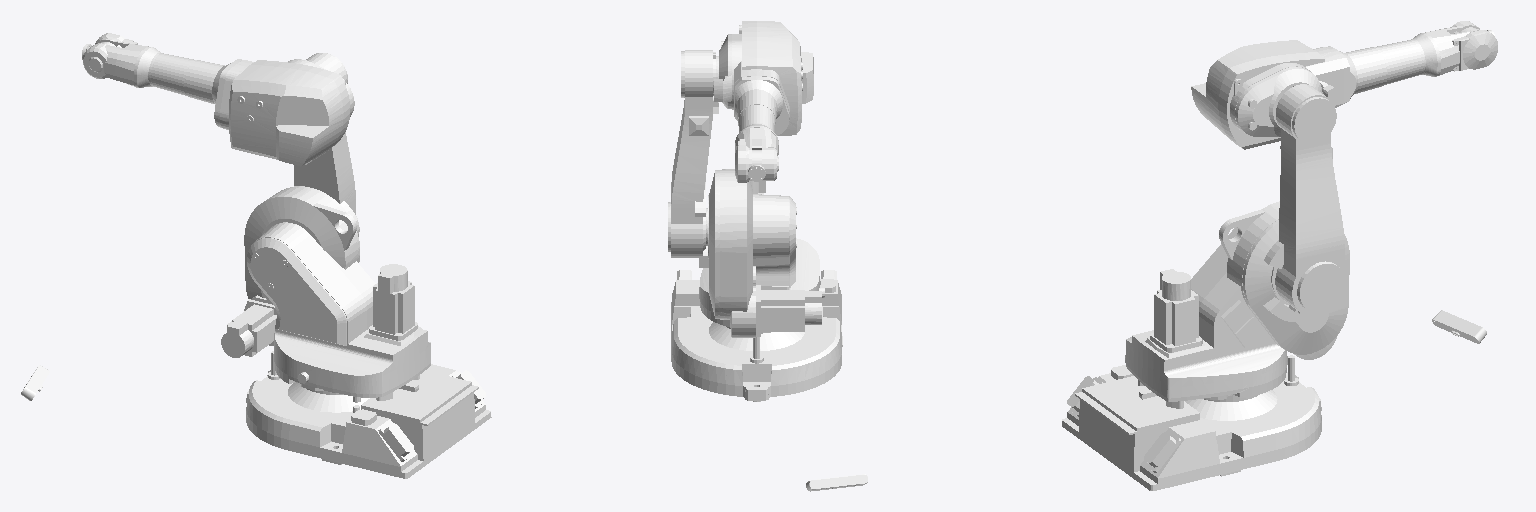
URDF robot description (converted_robot):
<?xml version="1.0" ?>
<robot name="converted_robot">
   <link name="world">
      <inertial>
         <origin xyz="0.0 0.0 0.0" rpy="0.0 0.0 0.0"/>
         <mass value="0.0"/>
         <inertia ixx="0.0" iyy="0.0" izz="0.0" ixy="0" ixz="0" iyz="0"/>
      </inertial>
   </link>
   <link name="obstacle">
      <inertial>
         <origin xyz="0.0 0.0 0.4041" rpy="0.0 0.0 0.0"/>
         <mass value="0.0"/>
         <inertia ixx="0.0" iyy="0.0" izz="0.0" ixy="0" ixz="0" iyz="0"/>
      </inertial>
   </link>
   <link name="world2obstacle_fixed_jointbody">
      <inertial>
         <origin xyz="0.0 0.0 0.0" rpy="0.0 0.0 0.0"/>
         <mass value="0.001"/>
         <inertia ixx="1e-09" iyy="1e-09" izz="1e-09" ixy="0" ixz="0" iyz="0"/>
      </inertial>
   </link>
   <joint type="fixed" name="world2obstacle_fixed">
      <parent link="world"/>
      <child link="world2obstacle_fixed_jointbody"/>
      <origin xyz="0.0 0.0 0.4041" rpy="0.0 0.0 0.0"/>
   </joint>
   <joint type="fixed" name="world2obstacle_fixed_offset">
      <parent link="world2obstacle_fixed_jointbody"/>
      <child link="obstacle"/>
      <origin xyz="-0.0 -0.0 -0.0" rpy="0.0 0.0 0.0"/>
   </joint>
   <link name="pedestal">
      <inertial>
         <origin xyz="-0.00043730227895794624 0.0003461553523841242 -0.11444806187186295" rpy="1.5291440469426658 -1.5702258157370024 0.518936895514554"/>
         <mass value="765.3285799872285"/>
         <inertia ixx="163.26887932246294" iyy="93.62391648179316" izz="93.1454633912142" ixy="0" ixz="0" iyz="0"/>
      </inertial>
      <visual name="pedestal">
         <origin xyz="-5.092508355591413e-09 -9.222826625304366e-05 -0.11580342809927653" rpy="5.273703893393655e-05 -1.57 1.570796326794889"/>
         <geometry>
            <mesh filename="package://mapf/irb1600_aggregated/converted_pedestal.stl"/>
         </geometry>
         <material name="white"/>
      </visual>
   </link>
   <link name="obstacle2pedestal_fixed_jointbody">
      <inertial>
         <origin xyz="0.0 0.0 0.0" rpy="0.0 0.0 0.0"/>
         <mass value="0.001"/>
         <inertia ixx="1e-09" iyy="1e-09" izz="1e-09" ixy="0" ixz="0" iyz="0"/>
      </inertial>
   </link>
   <joint type="fixed" name="obstacle2pedestal_fixed">
      <parent link="obstacle"/>
      <child link="obstacle2pedestal_fixed_jointbody"/>
      <origin xyz="0.0 0.0 0.0" rpy="0.0 0.0 0.0"/>
   </joint>
   <joint type="fixed" name="obstacle2pedestal_fixed_offset">
      <parent link="obstacle2pedestal_fixed_jointbody"/>
      <child link="pedestal"/>
      <origin xyz="-0.0 -0.0 -0.0" rpy="0.0 0.0 0.0"/>
   </joint>
   <link name="cam1_mount">
      <inertial>
         <origin xyz="-2.1978752828365408e-08 0.3035055631842356 0.030071931519001862" rpy="0.0 -1.5704348969469144 1.5707963267948966"/>
         <mass value="81.34561770455797"/>
         <inertia ixx="6.10766057356678" iyy="6.1072505691519305" izz="1.21596528823384" ixy="0" ixz="0" iyz="0"/>
      </inertial>
      <visual name="camera">
         <origin xyz="-6.081106802919752e-06 0.00016160951961328342 0.05516862042406933" rpy="-1.5711455092126796 -1.0361043391953673 -1.5706153060942076"/>
         <geometry>
            <mesh filename="package://mapf/irb1600_aggregated/converted_camera.stl"/>
         </geometry>
         <material name="white"/>
      </visual>
   </link>
   <link name="pedestal2cam1_mount_fixed_jointbody">
      <inertial>
         <origin xyz="0.0 0.0 0.0" rpy="0.0 0.0 0.0"/>
         <mass value="0.001"/>
         <inertia ixx="1e-09" iyy="1e-09" izz="1e-09" ixy="0" ixz="0" iyz="0"/>
      </inertial>
   </link>
   <joint type="fixed" name="pedestal2cam1_mount_fixed">
      <parent link="pedestal"/>
      <child link="pedestal2cam1_mount_fixed_jointbody"/>
      <origin xyz="-0.6223 0.6223 0.04" rpy="0.0 0.0 0.7853979999999999"/>
   </joint>
   <joint type="fixed" name="pedestal2cam1_mount_fixed_offset">
      <parent link="pedestal2cam1_mount_fixed_jointbody"/>
      <child link="cam1_mount"/>
      <origin xyz="-0.0 -0.0 -0.0" rpy="0.0 0.0 0.0"/>
   </joint>
   <link name="lidar_array">
      <inertial>
         <origin xyz="0.0 0.3471333333333333 0.00508" rpy="1.5862274945631394 0.0 0.0"/>
         <mass value="0.49161192"/>
         <inertia ixx="0.018046526495606" iyy="0.017957732491635382" izz="0.0001416553950218212" ixy="0" ixz="0" iyz="0"/>
      </inertial>
   </link>
   <link name="cam1_mount2lidar_array_fixed_jointbody">
      <inertial>
         <origin xyz="0.0 0.0 0.0" rpy="0.0 0.0 0.0"/>
         <mass value="0.001"/>
         <inertia ixx="1e-09" iyy="1e-09" izz="1e-09" ixy="0" ixz="0" iyz="0"/>
      </inertial>
   </link>
   <joint type="fixed" name="cam1_mount2lidar_array_fixed">
      <parent link="cam1_mount"/>
      <child link="cam1_mount2lidar_array_fixed_jointbody"/>
      <origin xyz="0.0 0.0 -0.04" rpy="0.0 0.0 0.0"/>
   </joint>
   <joint type="fixed" name="cam1_mount2lidar_array_fixed_offset">
      <parent link="cam1_mount2lidar_array_fixed_jointbody"/>
      <child link="lidar_array"/>
      <origin xyz="-0.0 -0.0 -0.0" rpy="0.0 0.0 0.0"/>
   </joint>
   <link name="lidar_tip_1">
      <inertial>
         <origin xyz="2.8498786209322004e-06 -0.009624170314843522 0.04496477472873744" rpy="1.1678002508174847 -0.00017406642393558158 -0.00018585284510541644"/>
         <mass value="1.0066451621893733"/>
         <inertia ixx="0.000936962965946424" iyy="0.0007914151369487161" izz="0.0005854883096544581" ixy="0" ixz="0" iyz="0"/>
      </inertial>
      <visual name="lidar_w_bracket">
         <origin xyz="2.8498786209322004e-06 -0.009624170314843522 0.04496477472873744" rpy="1.1678002508174852 -0.00017406642393558158 -0.00018585284510552746"/>
         <geometry>
            <mesh filename="package://mapf/irb1600_aggregated/converted_lidar_w_bracket.stl"/>
         </geometry>
         <material name="white"/>
      </visual>
   </link>
   <link name="lidar_array2lidar_tip_1_fixed_jointbody">
      <inertial>
         <origin xyz="0.0 0.0 0.0" rpy="0.0 0.0 0.0"/>
         <mass value="0.001"/>
         <inertia ixx="1e-09" iyy="1e-09" izz="1e-09" ixy="0" ixz="0" iyz="0"/>
      </inertial>
   </link>
   <joint type="fixed" name="lidar_array2lidar_tip_1_fixed">
      <parent link="lidar_array"/>
      <child link="lidar_array2lidar_tip_1_fixed_jointbody"/>
      <origin xyz="0.0 0.3048 0.0635" rpy="0.0 0.0 0.0"/>
   </joint>
   <joint type="fixed" name="lidar_array2lidar_tip_1_fixed_offset">
      <parent link="lidar_array2lidar_tip_1_fixed_jointbody"/>
      <child link="lidar_tip_1"/>
      <origin xyz="-0.0 -0.0 -0.0" rpy="0.0 0.0 0.0"/>
   </joint>
   <link name="lidar_tip_2">
      <inertial>
         <origin xyz="2.8498786209322004e-06 -0.009624170314843522 0.04496477472873744" rpy="1.1678002508174847 -0.00017406642393558158 -0.00018585284510541644"/>
         <mass value="1.0066451621893733"/>
         <inertia ixx="0.000936962965946424" iyy="0.0007914151369487161" izz="0.0005854883096544581" ixy="0" ixz="0" iyz="0"/>
      </inertial>
      <visual name="lidar_w_bracket">
         <origin xyz="2.8498786209322004e-06 -0.009624170314843522 0.04496477472873744" rpy="1.1678002508174852 -0.00017406642393558158 -0.00018585284510552746"/>
         <geometry>
            <mesh filename="package://mapf/irb1600_aggregated/converted_lidar_w_bracket.stl"/>
         </geometry>
         <material name="white"/>
      </visual>
   </link>
   <link name="lidar_array2lidar_tip_2_fixed_jointbody">
      <inertial>
         <origin xyz="0.0 0.0 0.0" rpy="0.0 0.0 0.0"/>
         <mass value="0.001"/>
         <inertia ixx="1e-09" iyy="1e-09" izz="1e-09" ixy="0" ixz="0" iyz="0"/>
      </inertial>
   </link>
   <joint type="fixed" name="lidar_array2lidar_tip_2_fixed">
      <parent link="lidar_array"/>
      <child link="lidar_array2lidar_tip_2_fixed_jointbody"/>
      <origin xyz="0.0 0.6096 0.0635" rpy="0.0 0.0 0.0"/>
   </joint>
   <joint type="fixed" name="lidar_array2lidar_tip_2_fixed_offset">
      <parent link="lidar_array2lidar_tip_2_fixed_jointbody"/>
      <child link="lidar_tip_2"/>
      <origin xyz="-0.0 -0.0 -0.0" rpy="0.0 0.0 0.0"/>
   </joint>
   <link name="base">
      <inertial>
         <origin xyz="-0.00041004619227797627 5.0215393118181535e-06 0.8955730364480041" rpy="0.0018676595006115182 -1.5569813036519353 3.1300420253338794"/>
         <mass value="8296.716295423723"/>
         <inertia ixx="5027.275636163852" iyy="4826.827767099473" izz="4826.047797731569" ixy="0" ixz="0" iyz="0"/>
      </inertial>
      <visual name="base_link">
         <origin xyz="-0.10398600701234399 0.001273441460803755 0.06465907013194644" rpy="-3.05674683826266 -1.514761990613406 -0.0924694853798016"/>
         <geometry>
            <mesh filename="package://mapf/irb1600_aggregated/converted_base_link.stl"/>
         </geometry>
         <material name="white"/>
      </visual>
   </link>
   <link name="obstacle2base_fixed_jointbody">
      <inertial>
         <origin xyz="0.0 0.0 0.0" rpy="0.0 0.0 0.0"/>
         <mass value="0.001"/>
         <inertia ixx="1e-09" iyy="1e-09" izz="1e-09" ixy="0" ixz="0" iyz="0"/>
      </inertial>
   </link>
   <joint type="fixed" name="obstacle2base_fixed">
      <parent link="obstacle"/>
      <child link="obstacle2base_fixed_jointbody"/>
      <origin xyz="0.0 0.0 0.07847612194" rpy="0.0 0.0 2.0944"/>
   </joint>
   <joint type="fixed" name="obstacle2base_fixed_offset">
      <parent link="obstacle2base_fixed_jointbody"/>
      <child link="base"/>
      <origin xyz="-0.0 -0.0 -0.0" rpy="0.0 0.0 0.0"/>
   </joint>
   <link name="link_1">
      <inertial>
         <origin xyz="0.0444007 -0.00834001 0.340163" rpy="0.9287374349478994 -0.25766778527335377 1.6028091534546456"/>
         <mass value="44.6131"/>
         <inertia ixx="1.4797" iyy="1.22366" izz="0.686463" ixy="0" ixz="0" iyz="0"/>
      </inertial>
      <visual name="link_1">
         <origin xyz="0.04440067695420431 -0.008340011276993008 0.3401628099689179" rpy="0.9287368631456476 -0.25766702559282706 1.6028103288522595"/>
         <geometry>
            <mesh filename="package://mapf/irb1600_aggregated/converted_link_1.stl"/>
         </geometry>
         <material name="white"/>
      </visual>
   </link>
   <link name="joint_1_jointbody">
      <inertial>
         <origin xyz="0.0 0.0 0.0" rpy="0.0 0.0 0.0"/>
         <mass value="0.001"/>
         <inertia ixx="1e-09" iyy="1e-09" izz="1e-09" ixy="0" ixz="0" iyz="0"/>
      </inertial>
   </link>
   <joint type="revolute" name="joint_1">
      <parent link="base"/>
      <child link="joint_1_jointbody"/>
      <origin xyz="0.0 0.0 0.0" rpy="0.0 0.0 0.0"/>
      <axis xyz="0.0 0.0 1.0"/>
      <limit lower="-3.14159" upper="3.14159" effort="100" velocity="100"/>
   </joint>
   <joint type="fixed" name="joint_1_offset">
      <parent link="joint_1_jointbody"/>
      <child link="link_1"/>
      <origin xyz="-0.0 -0.0 -0.0" rpy="0.0 0.0 0.0"/>
   </joint>
   <link name="link_2">
      <inertial>
         <origin xyz="-0.000162316 -0.181341 0.209041" rpy="0.003301998778624138 0.07678017178395868 1.5563515239521877"/>
         <mass value="8.36275"/>
         <inertia ixx="0.278683" iyy="0.272236" izz="0.0199549" ixy="0" ixz="0" iyz="0"/>
      </inertial>
      <visual name="link_2">
         <origin xyz="-0.00016231619760822074 -0.1813411605326223 0.20904076179525033" rpy="0.0033020041937432687 0.07678025482187079 1.5563511197356017"/>
         <geometry>
            <mesh filename="package://mapf/irb1600_aggregated/converted_link_2.stl"/>
         </geometry>
         <material name="white"/>
      </visual>
   </link>
   <link name="joint_2_jointbody">
      <inertial>
         <origin xyz="0.0 0.0 0.0" rpy="0.0 0.0 0.0"/>
         <mass value="0.001"/>
         <inertia ixx="1e-09" iyy="1e-09" izz="1e-09" ixy="0" ixz="0" iyz="0"/>
      </inertial>
   </link>
   <joint type="revolute" name="joint_2">
      <parent link="link_1"/>
      <child link="joint_2_jointbody"/>
      <origin xyz="0.15 0.0 0.4865" rpy="0.0 0.0 0.0"/>
      <axis xyz="0.0 1.0 0.0"/>
      <limit lower="-1.0995" upper="1.9198" effort="100" velocity="100"/>
   </joint>
   <joint type="fixed" name="joint_2_offset">
      <parent link="joint_2_jointbody"/>
      <child link="link_2"/>
      <origin xyz="-0.0 -0.0 -0.0" rpy="0.0 0.0 0.0"/>
   </joint>
   <link name="link_3">
      <inertial>
         <origin xyz="0.0211951 0.0175275 -0.0132258" rpy="1.5342483226755428 -0.8998780961561786 1.5358635709588062"/>
         <mass value="16.0317"/>
         <inertia ixx="0.262454" iyy="0.244916" izz="0.112849" ixy="0" ixz="0" iyz="0"/>
      </inertial>
      <visual name="link_3">
         <origin xyz="0.02119509771200595 0.017527465977064133 -0.013225829330290864" rpy="1.5342477321458785 -0.8998786997887908 1.5358639108432237"/>
         <geometry>
            <mesh filename="package://mapf/irb1600_aggregated/converted_link_3.stl"/>
         </geometry>
         <material name="white"/>
      </visual>
   </link>
   <link name="joint_3_jointbody">
      <inertial>
         <origin xyz="0.0 0.0 0.0" rpy="0.0 0.0 0.0"/>
         <mass value="0.001"/>
         <inertia ixx="1e-09" iyy="1e-09" izz="1e-09" ixy="0" ixz="0" iyz="0"/>
      </inertial>
   </link>
   <joint type="revolute" name="joint_3">
      <parent link="link_2"/>
      <child link="joint_3_jointbody"/>
      <origin xyz="0.0 0.0 0.475" rpy="0.0 0.0 0.0"/>
      <axis xyz="0.0 1.0 0.0"/>
      <limit lower="-4.1015" upper="0.9599" effort="100" velocity="100"/>
   </joint>
   <joint type="fixed" name="joint_3_offset">
      <parent link="joint_3_jointbody"/>
      <child link="link_3"/>
      <origin xyz="-0.0 -0.0 -0.0" rpy="0.0 0.0 0.0"/>
   </joint>
   <link name="link_4">
      <inertial>
         <origin xyz="0.184489 -0.000718245 -1.22946e-05" rpy="1.2081461016297754 -1.5665488075140754 1.9188779980428117"/>
         <mass value="2.96489"/>
         <inertia ixx="0.0275833" iyy="0.0267565" izz="0.00469567" ixy="0" ixz="0" iyz="0"/>
      </inertial>
      <visual name="link_4">
         <origin xyz="0.18448853251589425 -0.0007182449998524459 -1.229455052840894e-05" rpy="1.2082087418364413 -1.566548913527525 1.9188153589792785"/>
         <geometry>
            <mesh filename="package://mapf/irb1600_aggregated/converted_link_4.stl"/>
         </geometry>
         <material name="white"/>
      </visual>
   </link>
   <link name="joint_4_jointbody">
      <inertial>
         <origin xyz="0.0 0.0 0.0" rpy="0.0 0.0 0.0"/>
         <mass value="0.001"/>
         <inertia ixx="1e-09" iyy="1e-09" izz="1e-09" ixy="0" ixz="0" iyz="0"/>
      </inertial>
   </link>
   <joint type="revolute" name="joint_4">
      <parent link="link_3"/>
      <child link="joint_4_jointbody"/>
      <origin xyz="0.3 0.0 0.0" rpy="0.0 0.0 0.0"/>
      <axis xyz="1.0 0.0 0.0"/>
      <limit lower="-3.4906" upper="3.4906" effort="100" velocity="100"/>
   </joint>
   <joint type="fixed" name="joint_4_offset">
      <parent link="joint_4_jointbody"/>
      <child link="link_4"/>
      <origin xyz="-0.0 -0.0 -0.0" rpy="0.0 0.0 0.0"/>
   </joint>
   <link name="link_5">
      <inertial>
         <origin xyz="1.38541e-08 2.00457e-06 5.41082e-08" rpy="1.606622477201558e-05 0.0 1.5707963267948966"/>
         <mass value="0.183296"/>
         <inertia ixx="0.000132901" iyy="9.60035e-05" izz="9.12007e-05" ixy="0" ixz="0" iyz="0"/>
      </inertial>
      <visual name="link_5">
         <origin xyz="1.385409251156094e-08 2.004568193289161e-06 5.4108168350921394e-08" rpy="1.606622994387852e-05 0.0 1.5707963267948966"/>
         <geometry>
            <mesh filename="package://mapf/irb1600_aggregated/converted_link_5.stl"/>
         </geometry>
         <material name="white"/>
      </visual>
   </link>
   <link name="joint_5_jointbody">
      <inertial>
         <origin xyz="0.0 0.0 0.0" rpy="0.0 0.0 0.0"/>
         <mass value="0.001"/>
         <inertia ixx="1e-09" iyy="1e-09" izz="1e-09" ixy="0" ixz="0" iyz="0"/>
      </inertial>
   </link>
   <joint type="revolute" name="joint_5">
      <parent link="link_4"/>
      <child link="joint_5_jointbody"/>
      <origin xyz="0.3 0.0 0.0" rpy="0.0 0.0 0.0"/>
      <axis xyz="0.0 1.0 0.0"/>
      <limit lower="-2.0071" upper="2.0071" effort="100" velocity="100"/>
   </joint>
   <joint type="fixed" name="joint_5_offset">
      <parent link="joint_5_jointbody"/>
      <child link="link_5"/>
      <origin xyz="-0.0 -0.0 -0.0" rpy="0.0 0.0 0.0"/>
   </joint>
   <link name="link_6">
      <inertial>
         <origin xyz="-0.0164152 2.0728e-06 0.000267316" rpy="1.5598912766250808 0.0003170006219452848 1.57079559833841"/>
         <mass value="0.0748395"/>
         <inertia ixx="3.09311e-05" iyy="3.06155e-05" izz="1.53407e-05" ixy="0" ixz="0" iyz="0"/>
      </inertial>
      <visual name="link_6">
         <origin xyz="-0.016415219137702785 2.072799085043337e-06 0.0002673163089940606" rpy="1.559892041678762 0.0003174231173517228 1.5707961267895978"/>
         <geometry>
            <mesh filename="package://mapf/irb1600_aggregated/converted_link_6.stl"/>
         </geometry>
         <material name="white"/>
      </visual>
   </link>
   <link name="joint_6_jointbody">
      <inertial>
         <origin xyz="0.0 0.0 0.0" rpy="0.0 0.0 0.0"/>
         <mass value="0.001"/>
         <inertia ixx="1e-09" iyy="1e-09" izz="1e-09" ixy="0" ixz="0" iyz="0"/>
      </inertial>
   </link>
   <joint type="revolute" name="joint_6">
      <parent link="link_5"/>
      <child link="joint_6_jointbody"/>
      <origin xyz="0.065 0.0 0.0" rpy="0.0 0.0 0.0"/>
      <axis xyz="1.0 0.0 0.0"/>
      <limit lower="-6.9813" upper="6.9813" effort="100" velocity="100"/>
   </joint>
   <joint type="fixed" name="joint_6_offset">
      <parent link="joint_6_jointbody"/>
      <child link="link_6"/>
      <origin xyz="-0.0 -0.0 -0.0" rpy="0.0 0.0 0.0"/>
   </joint>
   <material name="white">
      <color rgba="1 1 1 1"/>
   </material>
</robot>

--- What the picture shows (computed from the rendered views, not written in the file) ---
3 views of the same robot in one strip: view 1: azimuth 30°, elevation 25°; view 2: azimuth 150°, elevation 25°; view 3: azimuth 270°, elevation 25° (orthographic).
Robot: converted_robot — 27 links, 26 joints (6 revolute, 20 fixed); root link world; default pose: all joints at 0.
Visible links, largest first — view 1: link_1, base, link_3, link_4, link_2; view 2: link_1, base, link_3, link_2, link_4, cam1_mount; view 3: link_1, base, link_2, link_3, link_4, cam1_mount.
Link boxes in pixels (bbox=[...]): link_1: bbox=[221, 186, 430, 402]; base: bbox=[246, 351, 491, 478]; link_3: bbox=[184, 59, 354, 166]; link_4: bbox=[83, 33, 194, 95]; link_2: bbox=[294, 53, 359, 236]; link_1: bbox=[699, 169, 824, 337]; base: bbox=[671, 270, 842, 401]; link_3: bbox=[714, 21, 813, 135]; link_2: bbox=[668, 50, 718, 257]; link_4: bbox=[735, 105, 778, 182]; cam1_mount: bbox=[806, 474, 867, 491]; link_1: bbox=[1125, 201, 1349, 408]; base: bbox=[1062, 355, 1321, 490]; link_2: bbox=[1264, 84, 1348, 316]; link_3: bbox=[1191, 40, 1387, 149]; link_4: bbox=[1376, 21, 1497, 84]; cam1_mount: bbox=[1432, 310, 1486, 343].
Bounding box of the posed robot: 1.09 × 1.16 × 1.08 m (x, y, z).
Meshes: 10 distinct files referenced, 8 mesh visuals loaded (8 binary STL); not drawn: 3 (reference not matched to a file when rendering).
